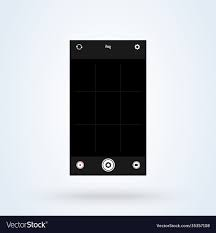camera: (98, 155, 117, 177)
